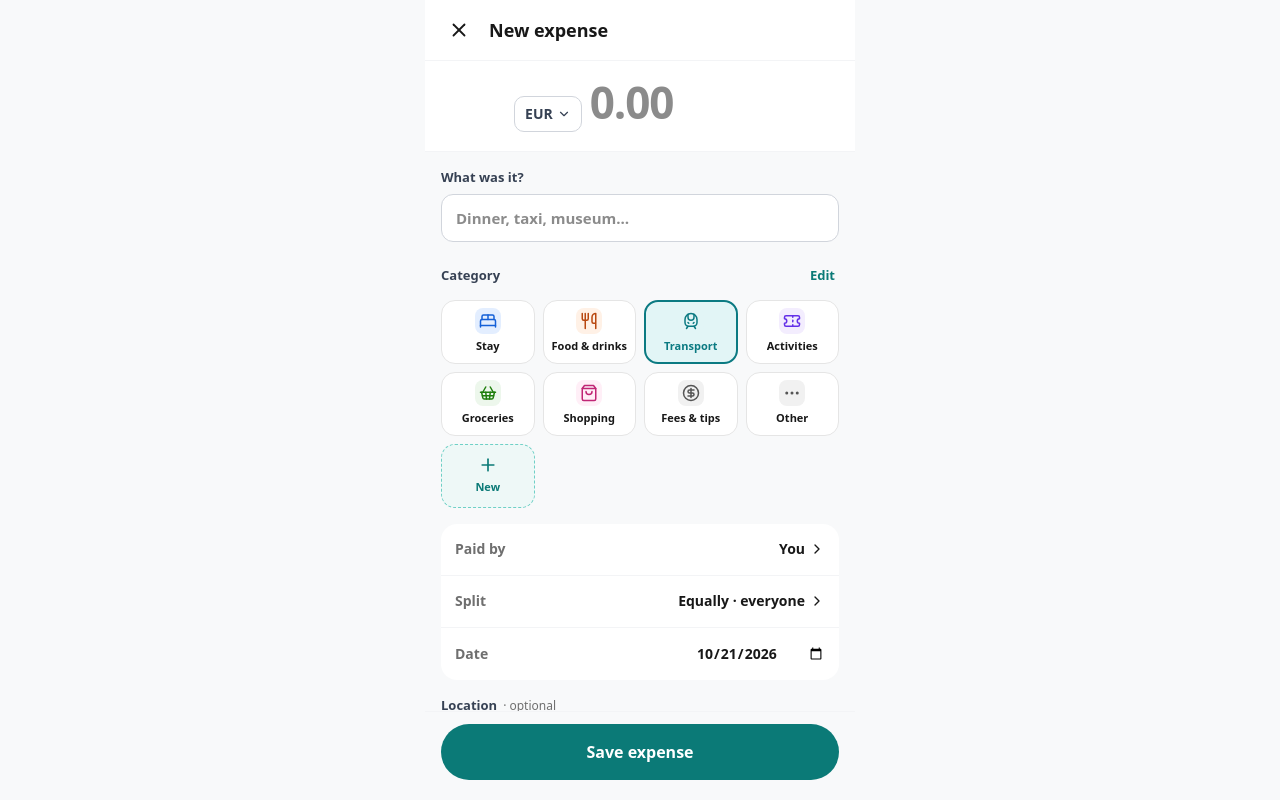
Test: amount and converted line › shows the converted line for a foreign currency
Click the button with aria-label "Change currency" at (548, 114), box left=514, top=96, right=582, bottom=132
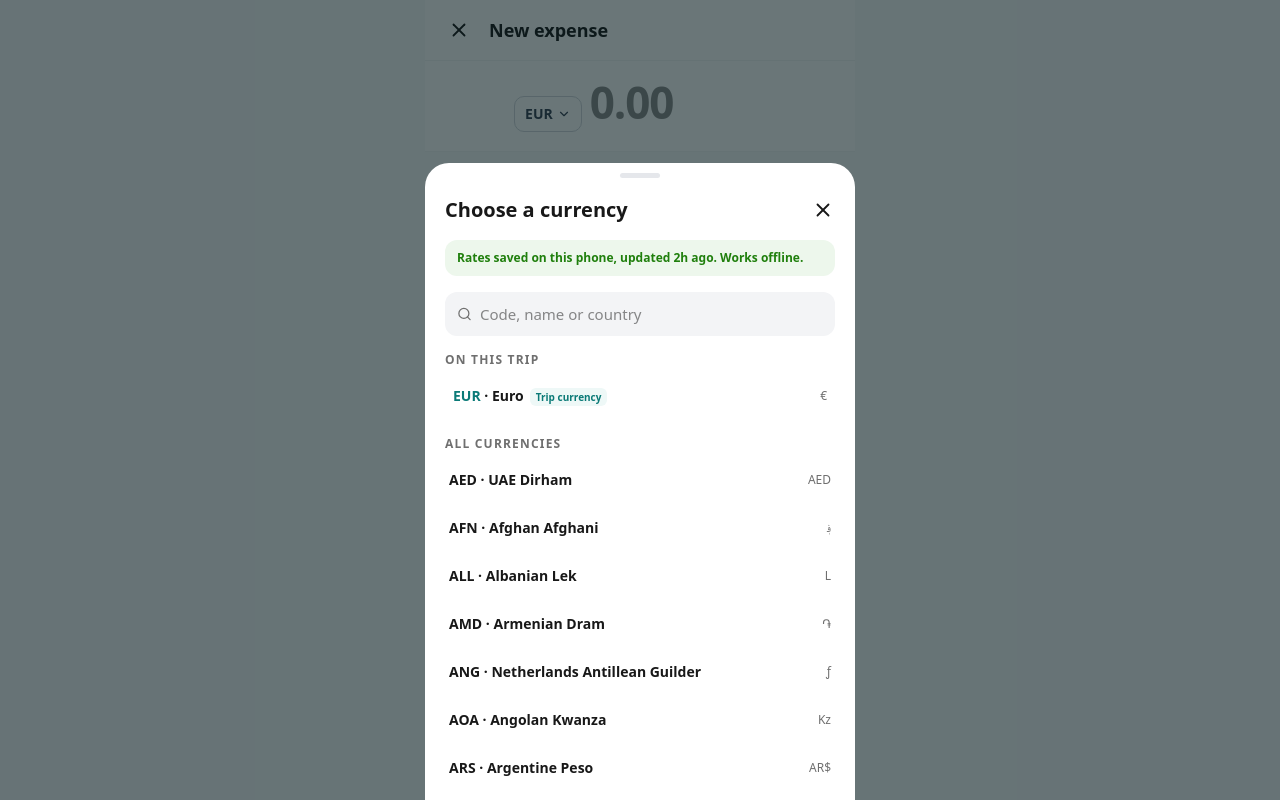
Type "Morocco" into the search field named "Search currencies" at (652, 314), box left=480, top=303, right=823, bottom=325
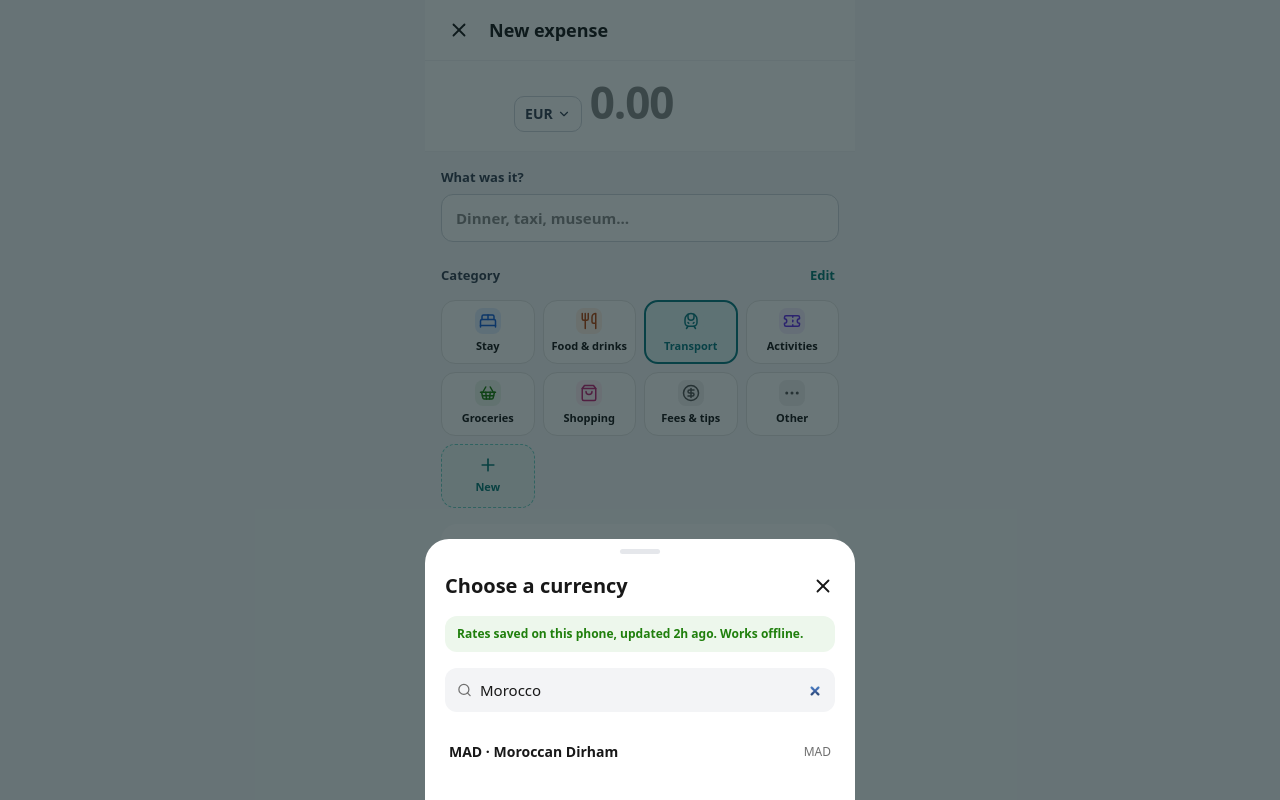
Click the button "MAD · Moroccan Dirham MAD" at (466, 752), box left=441, top=728, right=839, bottom=776
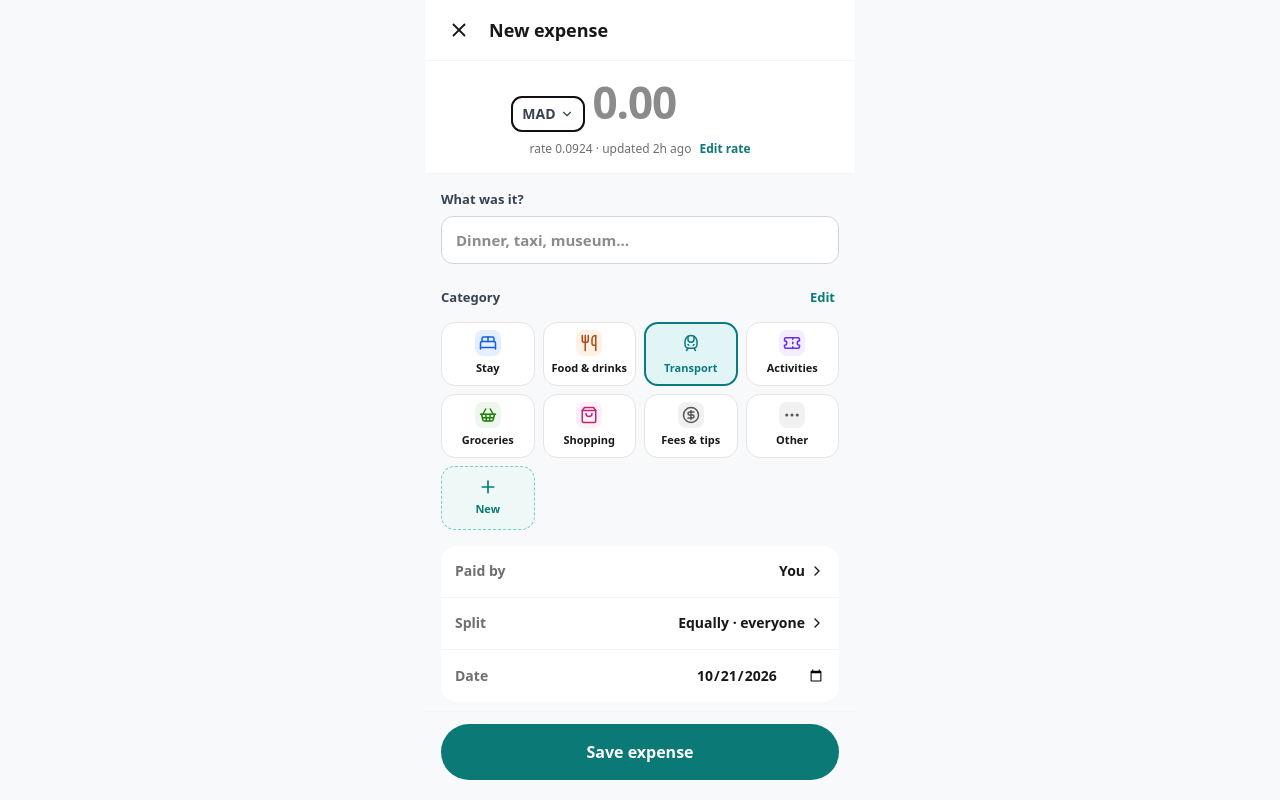
Type "240" into the field named "Amount" at (681, 102), box left=592, top=69, right=769, bottom=135
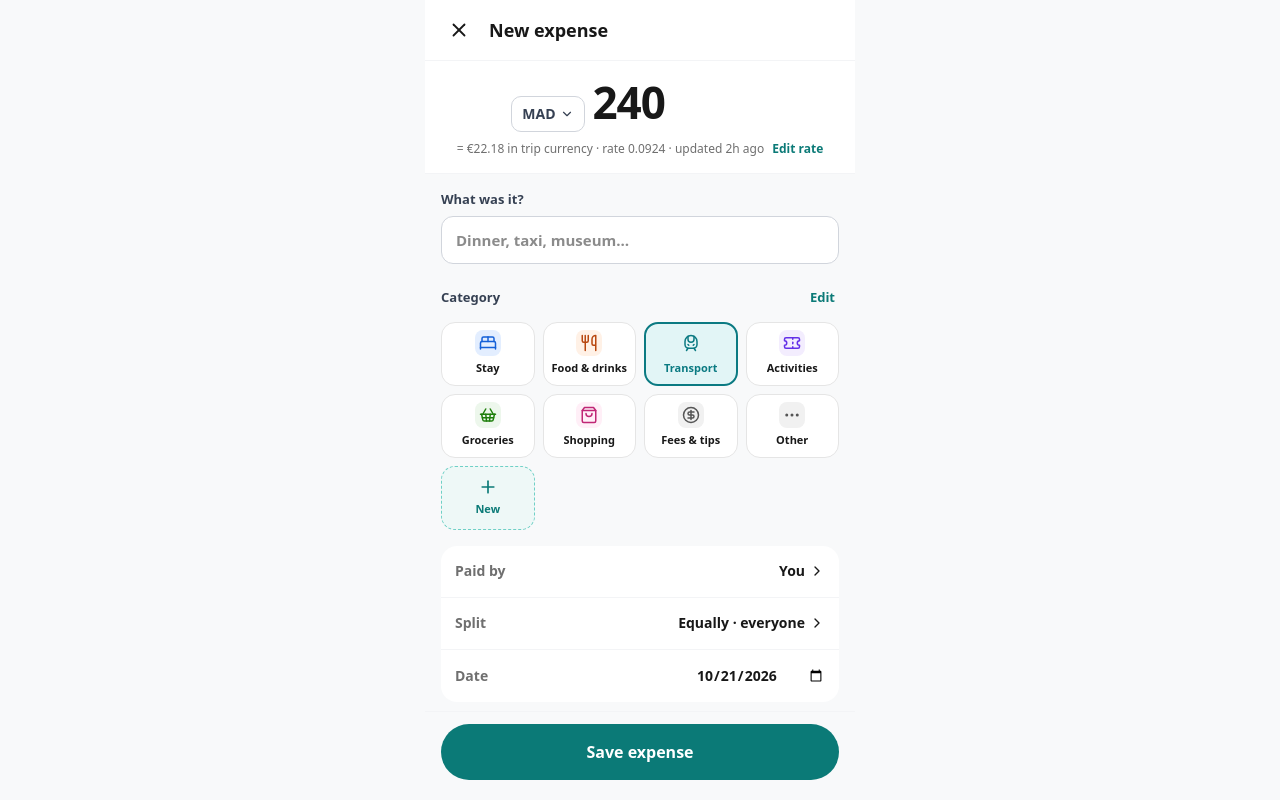
Check: the text "= €22.18 in trip currency · rate 0.0924 · updated 2h ago" is shown, box left=457, top=141, right=823, bottom=157
